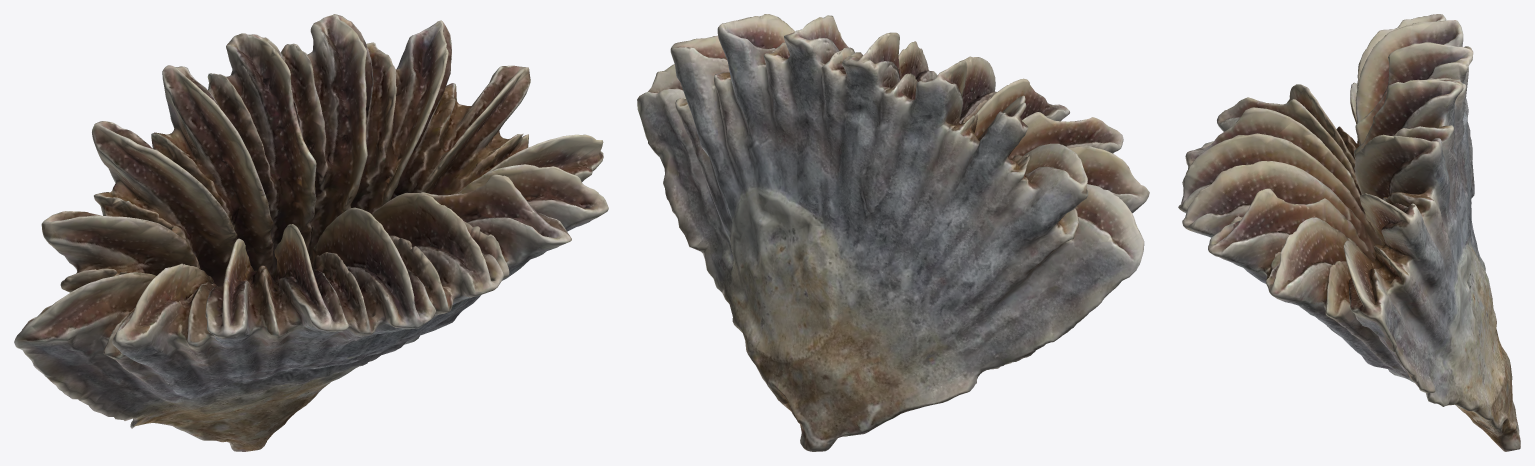
Rendered from coral.glb.
3 views of the same model, side by side, from view 1: azimuth 30°, elevation 25°; view 2: azimuth 150°, elevation 25°; view 3: azimuth 270°, elevation 25° (orthographic). The views are drawn at different scales.
Parts seen in each view (by area): view 1: Flabellum_-Ulocyathus-_marenzelleri-150k; view 2: Flabellum_-Ulocyathus-_marenzelleri-150k; view 3: Flabellum_-Ulocyathus-_marenzelleri-150k.
Boxes of the visible parts, x1,y1,x2,y2 form: Flabellum_-Ulocyathus-_marenzelleri-150k: (14,14,608,451); Flabellum_-Ulocyathus-_marenzelleri-150k: (637,14,1149,451); Flabellum_-Ulocyathus-_marenzelleri-150k: (1178,14,1520,451).
Size of the model in its own units: 0.0422 by 0.031 by 0.0245.
Materials: 1 (1 with a texture image).
